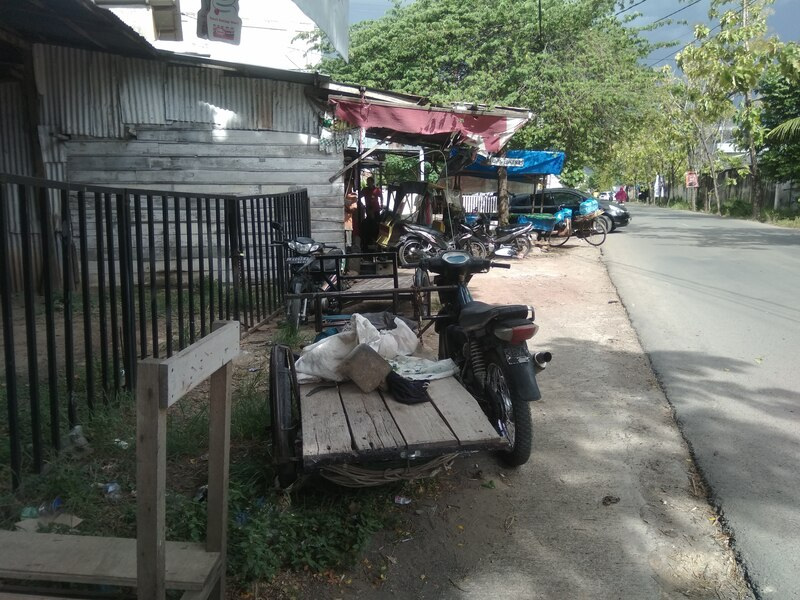becak barang: (260, 245, 560, 496), (264, 212, 435, 337)
